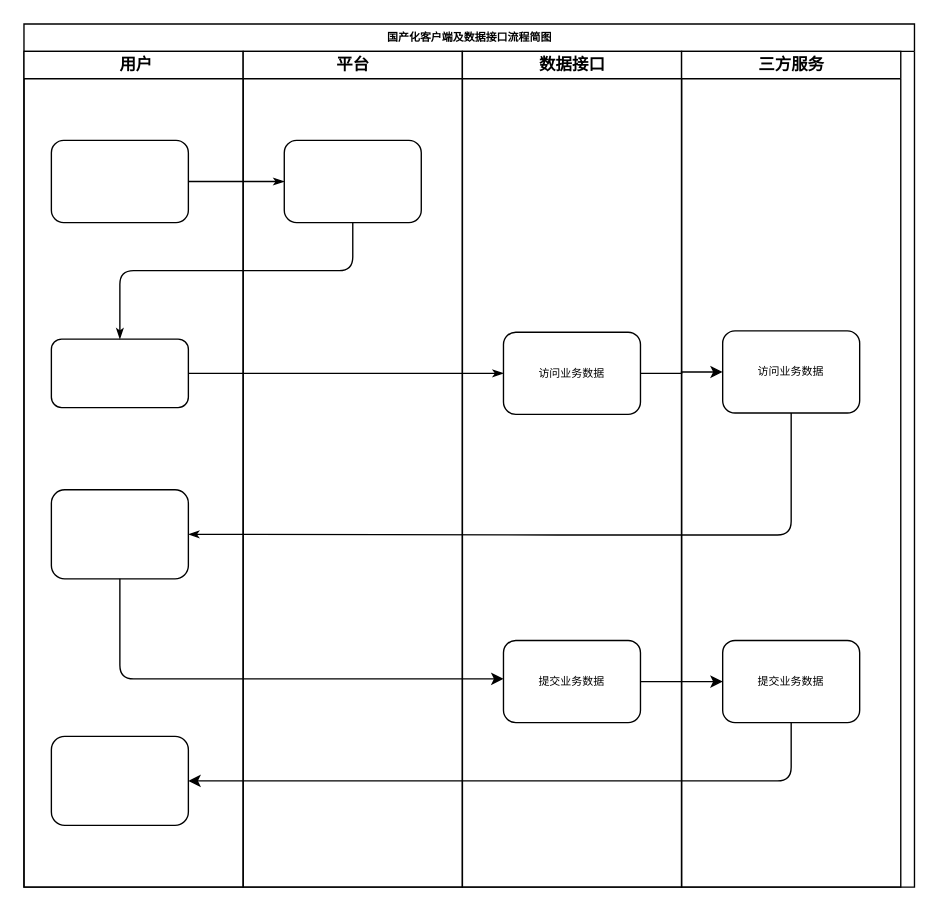
Image size: 938x911. Some labels were removed from this diagram. Here are the shapes that lost their labels. From the top down, the centre of each, then its label:
(119,181): 打开国产化客户端
(352,181): 认证登录
(119,373): 返回业务页面
(119,533): 更新业务页面
(119,780): 返回结果
